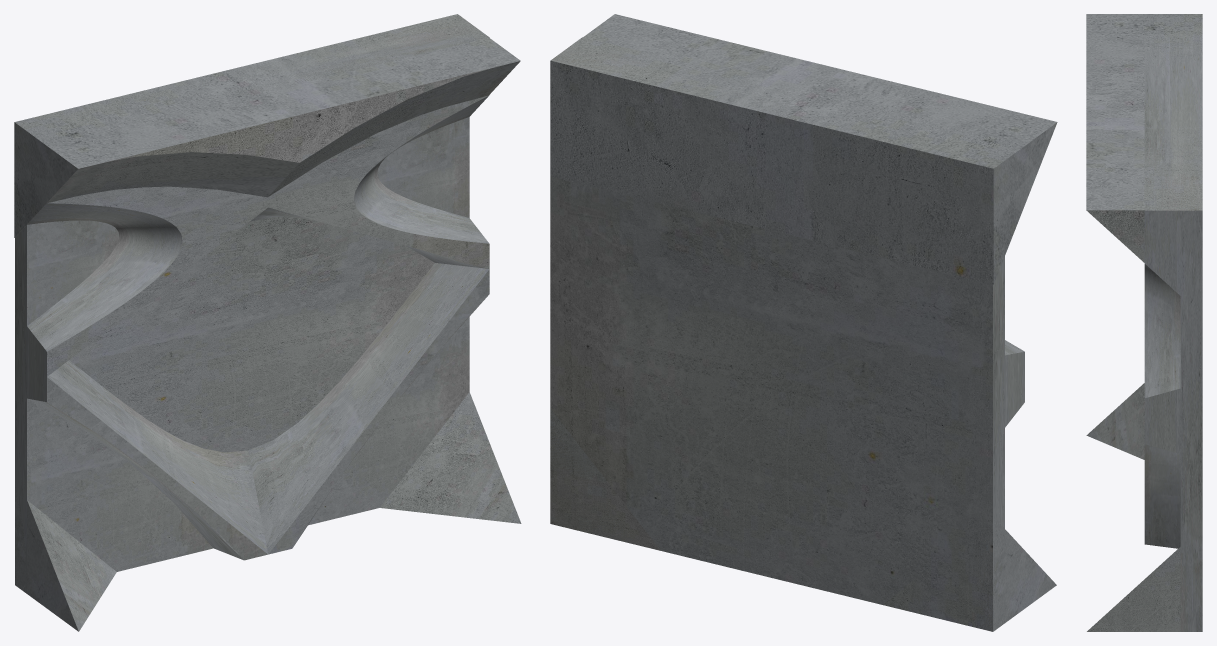
File: module_U4.fbx
The picture shows the model from 3 angles, left to right: view 1: azimuth 30°, elevation 25°; view 2: azimuth 150°, elevation 25°; view 3: azimuth 270°, elevation 25°; orthographic projection. The views are drawn at different scales.
Parts seen in each view (by area): view 1: modules; view 2: modules; view 3: modules.
Part boxes in pixels (x1,y1,x2,y2): modules: [14, 14, 521, 631]; modules: [550, 14, 1057, 631]; modules: [1086, 14, 1202, 631].
Bounding box in the file's own units: 1001 × 250 × 1000.
1 material, 1 textured.
